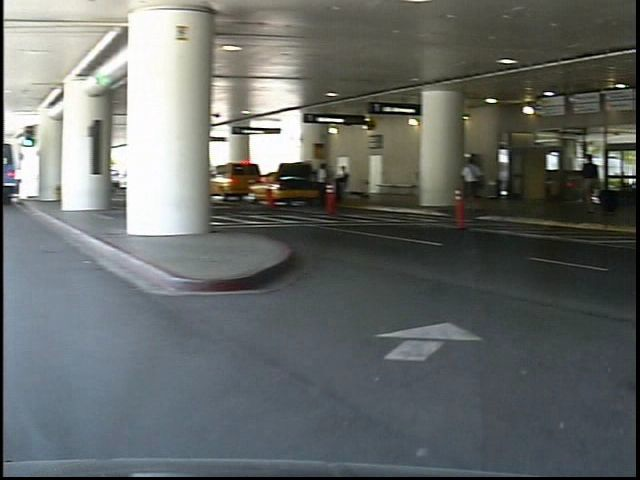person: (584, 146, 611, 219), (468, 151, 494, 214)
